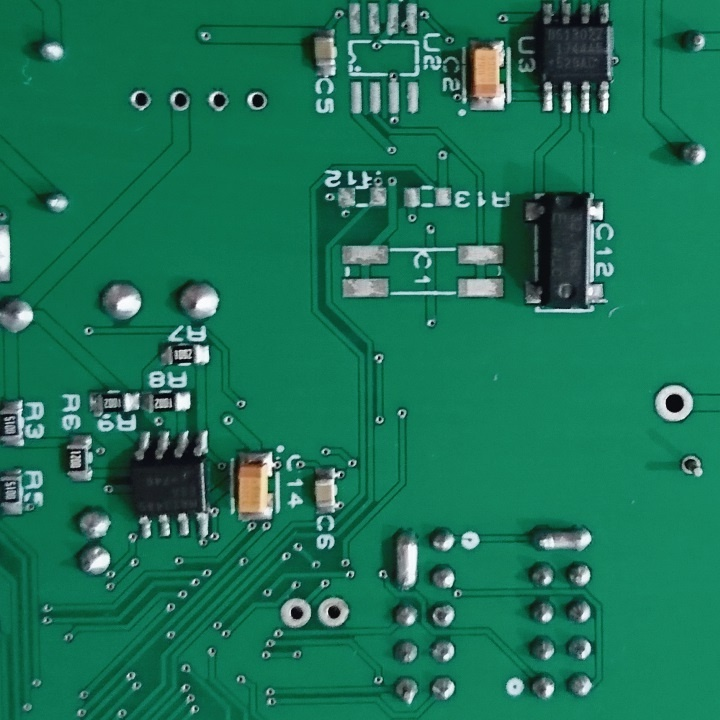F: (651, 382, 696, 424), (316, 589, 351, 632), (278, 593, 312, 629), (678, 448, 704, 485), (240, 86, 273, 115), (128, 84, 153, 118), (203, 88, 232, 117), (165, 89, 191, 115)
P: (524, 519, 601, 556), (390, 522, 420, 595)
